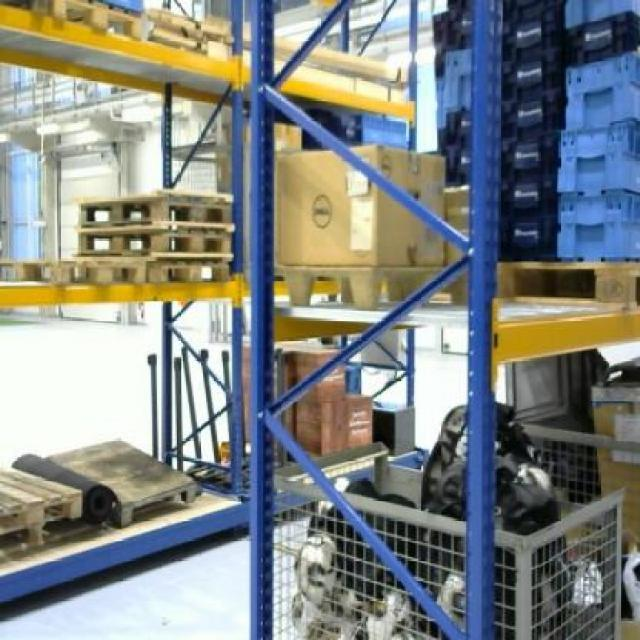box: (274, 150, 444, 262), (292, 400, 346, 456), (290, 348, 347, 400), (345, 393, 373, 452)
